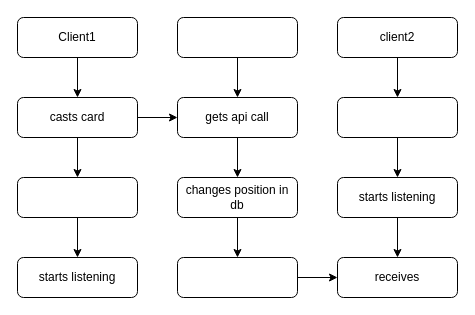
Image size: 475x315. Some labels were removed from this diagram. The centre of each missing label's shape, as x and y in pixels:
"ends turn" belongs at point (77, 197).
"endstep" belongs at point (397, 117).
"sends to clients" belongs at point (237, 277).
"ws" belongs at point (237, 37).
